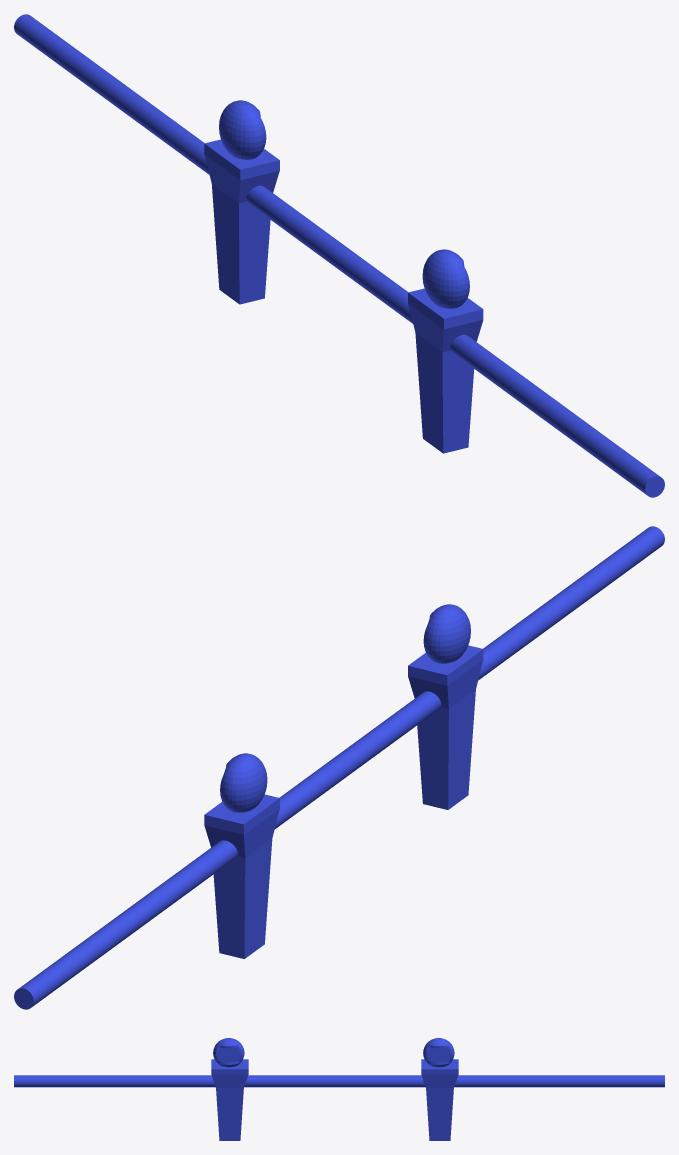
The model's file is Player_A2.glb.
3 renders of one model, top to bottom at view 1: azimuth 30°, elevation 25°; view 2: azimuth 150°, elevation 25°; view 3: azimuth 270°, elevation 25°, orthographic. The views are drawn at different scales.
Parts seen in each view (by area): view 1: Player_A2; view 2: Player_A2; view 3: Player_A2.
Part boxes in pixels (left/top/right/bottom): Player_A2: left=14, top=14, right=664, bottom=497; Player_A2: left=14, top=526, right=664, bottom=1009; Player_A2: left=14, top=1038, right=664, bottom=1140.
Bounding box in the file's own units: 1.57 × 7.28 × 43.39.
